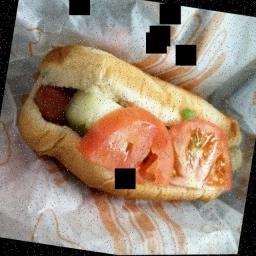hotdog: (36, 80, 72, 124)
